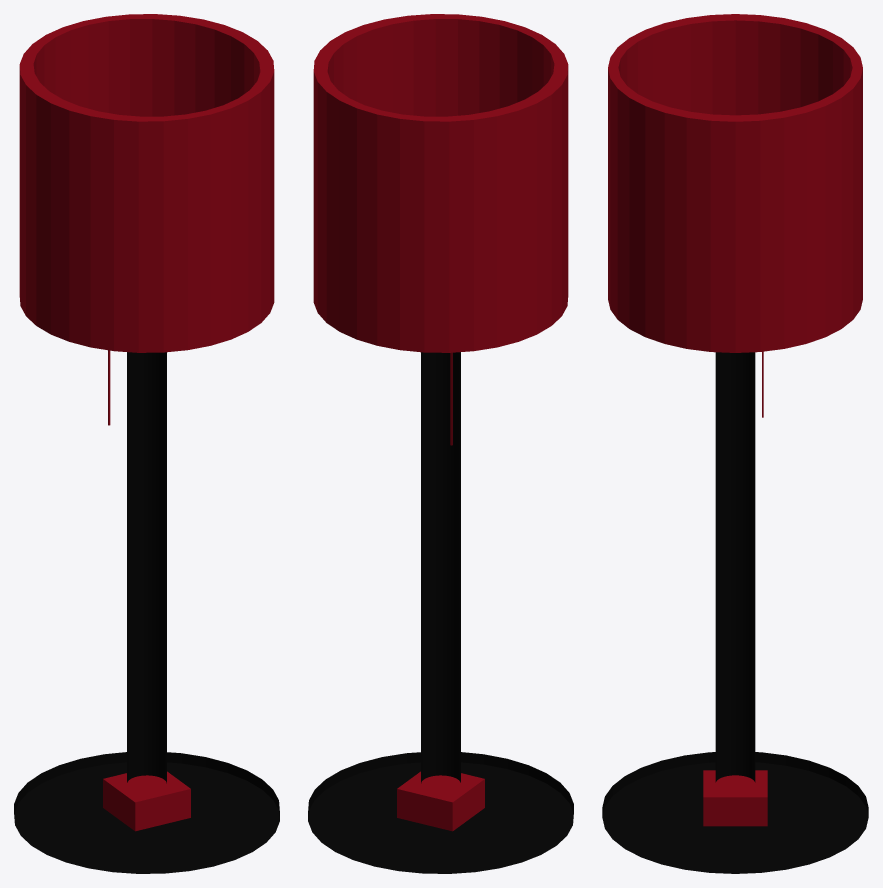
Rendered from LAMP STAND.fbx.
3 renders of one model, left to right at view 1: azimuth 30°, elevation 25°; view 2: azimuth 150°, elevation 25°; view 3: azimuth 270°, elevation 25°, orthographic.
Visible parts, largest first — view 1: Cylinder.002, Cube.001; view 2: Cylinder.002, Cube.001; view 3: Cylinder.002, Cube.001.
Part boxes in pixels (<box>): Cylinder.002: <box>19,14,274,352</box>; Cube.001: <box>14,350,279,873</box>; Cylinder.002: <box>313,14,568,352</box>; Cube.001: <box>308,352,573,873</box>; Cylinder.002: <box>608,14,862,352</box>; Cube.001: <box>602,351,868,873</box>.
Size of the model in its own units: 73.03 by 227 by 73.03.
